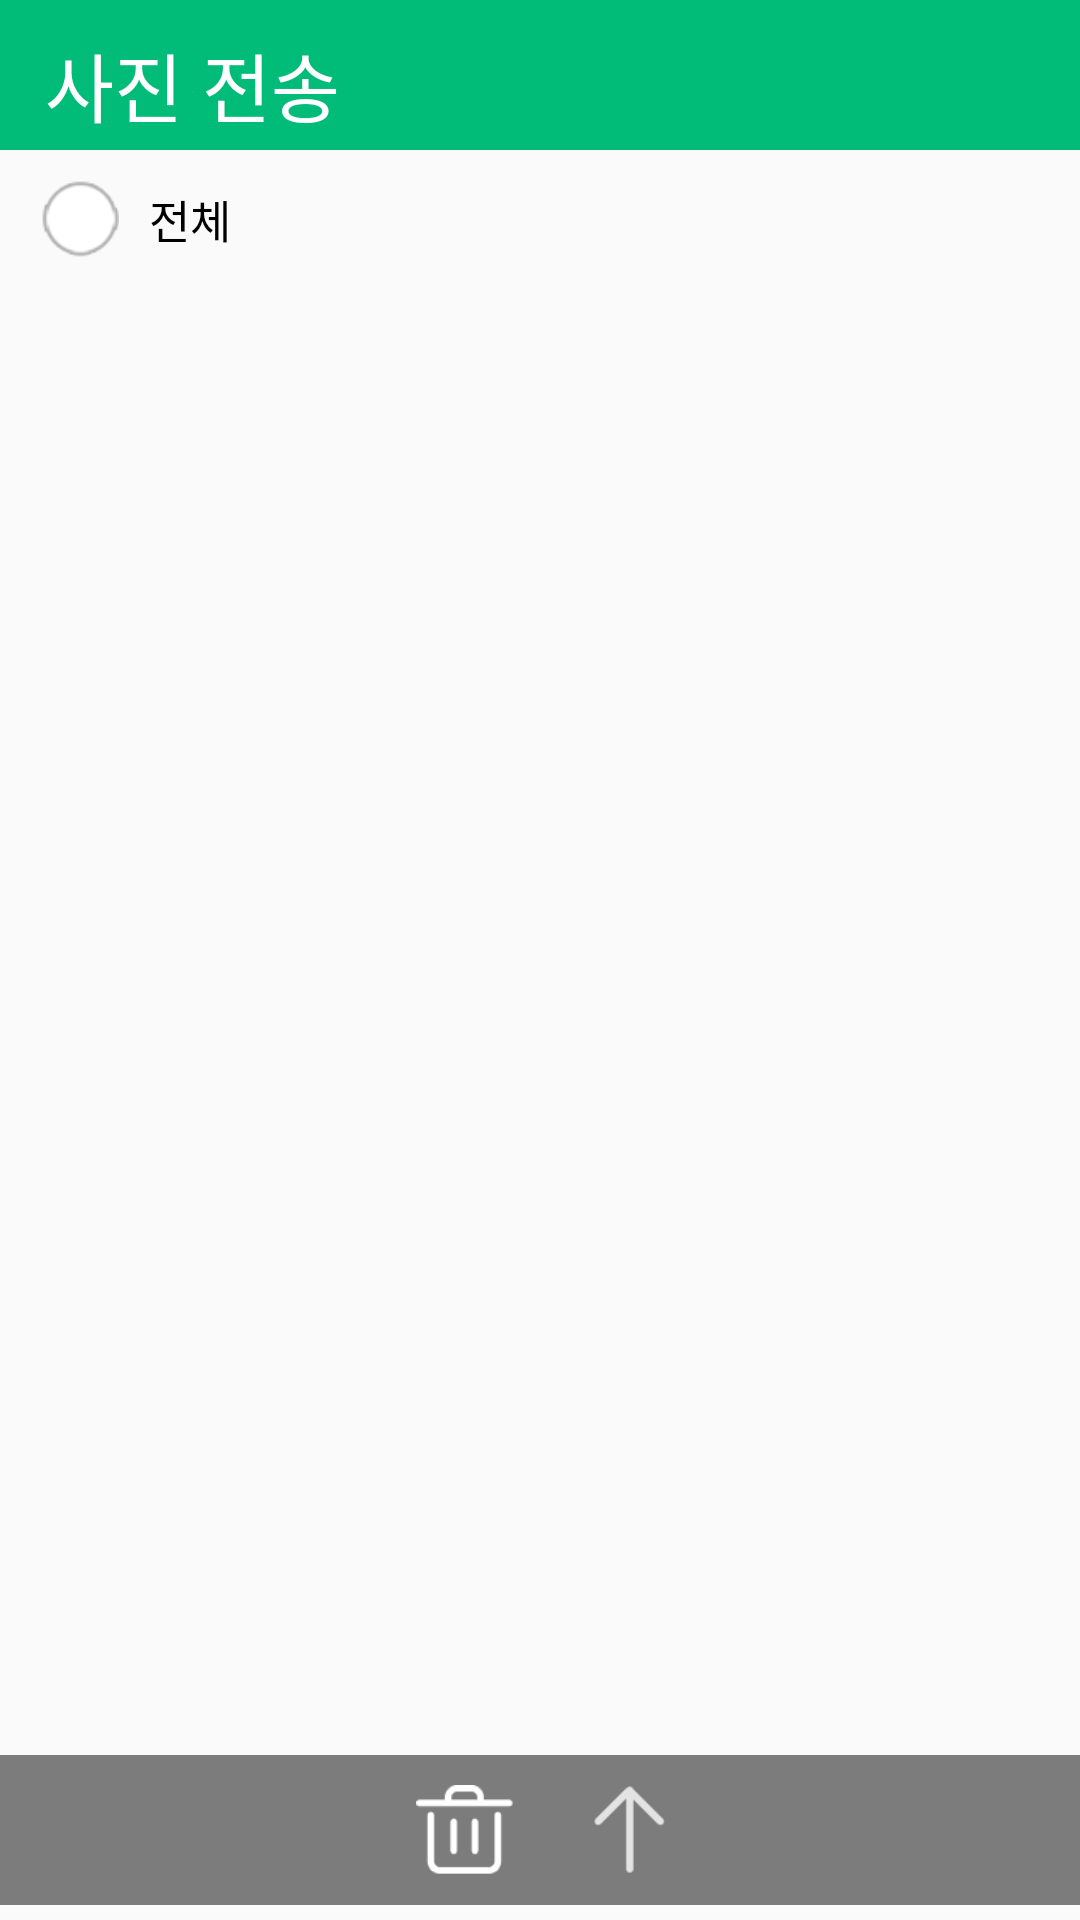

Point at icon controls on the screen. Image size 1080×1920, points as (x=x, y=y).
del: (x=464, y=1829)
send: (x=629, y=1829)
